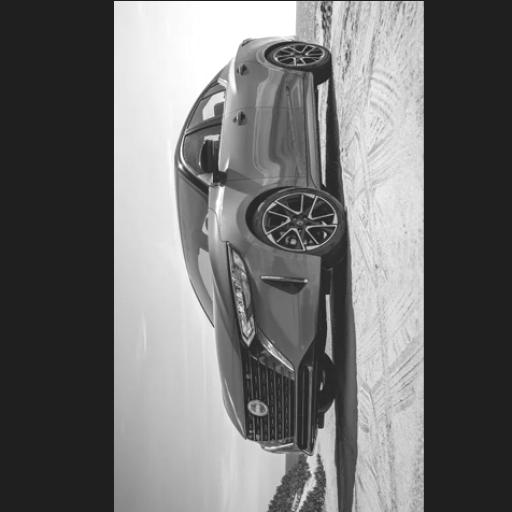hatchback: (175, 35, 344, 452)
